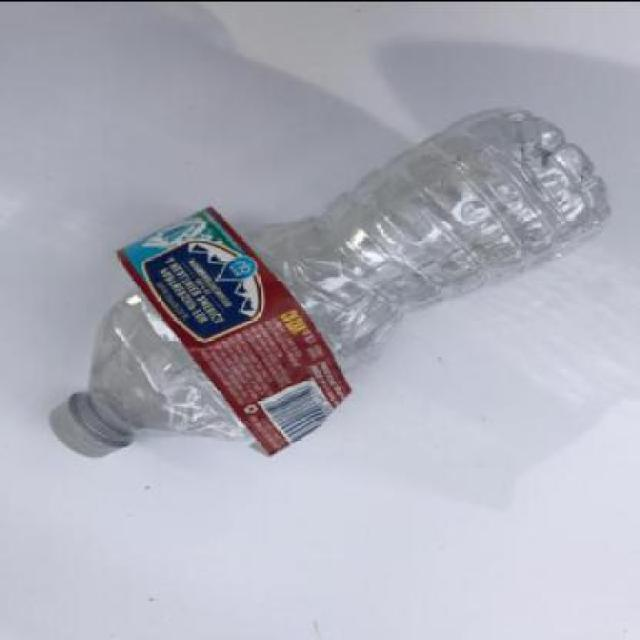PLASTIC: (48, 106, 614, 457), (116, 204, 352, 456), (50, 388, 132, 458)
